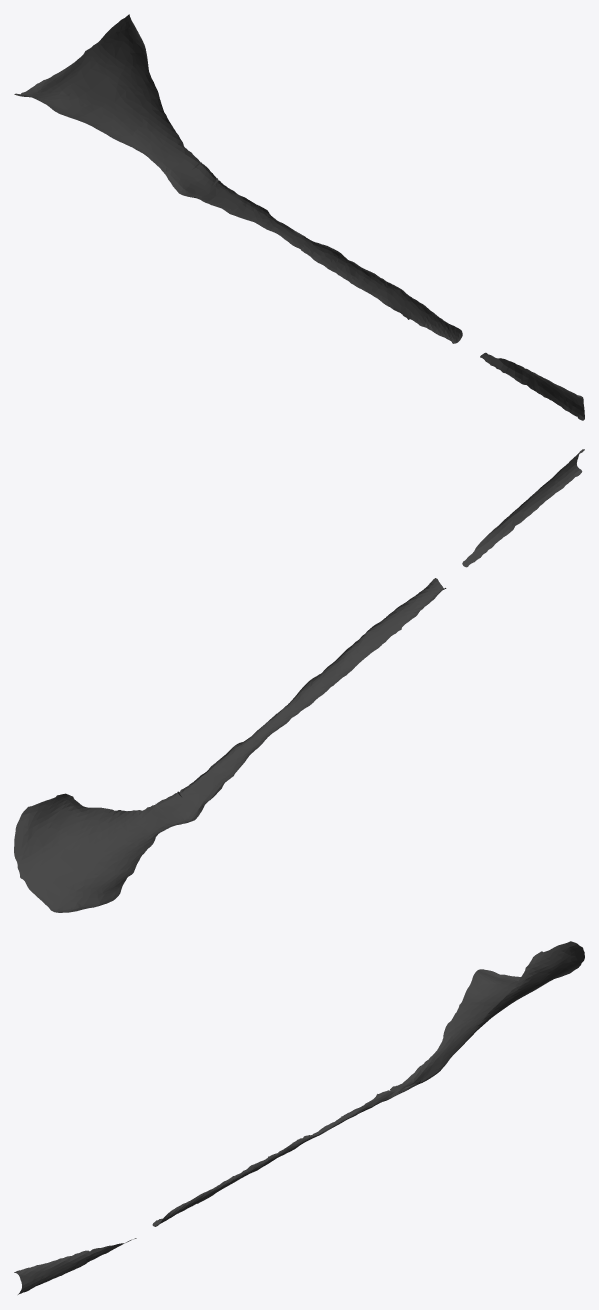
The model's file is tend_comm_dig_exten.glb.
3 renders of one model, top to bottom at view 1: azimuth 30°, elevation 25°; view 2: azimuth 150°, elevation 25°; view 3: azimuth 330°, elevation 25°, orthographic. The views are drawn at different scales.
Visible parts, largest first — view 1: tend_comm_dig_exten; view 2: tend_comm_dig_exten; view 3: tend_comm_dig_exten.
Boxes of the visible parts, left/top/right/bottom form: tend_comm_dig_exten: left=14, top=14, right=584, bottom=420; tend_comm_dig_exten: left=14, top=449, right=584, bottom=912; tend_comm_dig_exten: left=14, top=941, right=584, bottom=1294.
Size of the model in its own units: 0.1012 by 0.0869 by 0.9007.
1 material, 1 textured.
